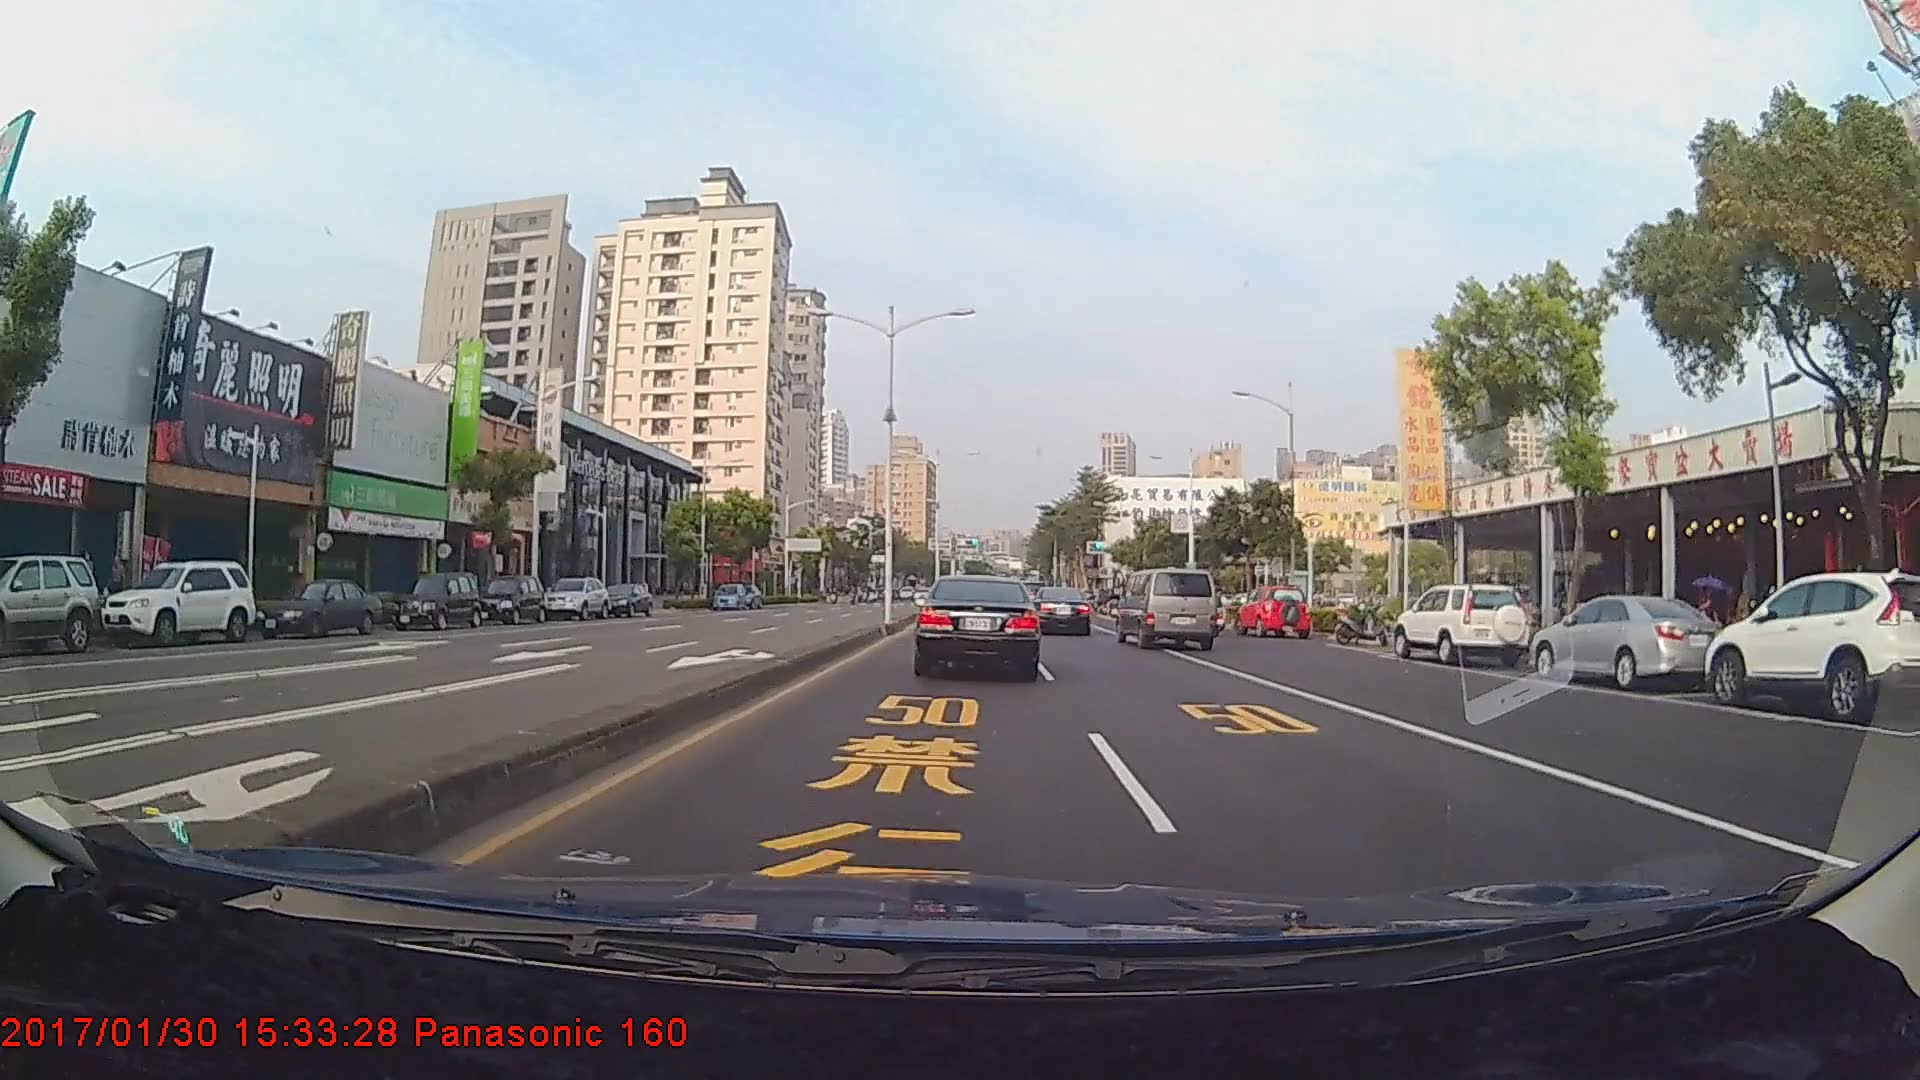vehicle: (1705, 570, 1917, 721), (1544, 589, 1724, 688), (100, 560, 255, 647), (915, 572, 1040, 678), (1389, 582, 1528, 665), (0, 553, 99, 655), (1113, 567, 1217, 650), (252, 578, 382, 640), (388, 570, 483, 629), (469, 575, 549, 626), (1232, 584, 1308, 637), (541, 575, 615, 622), (1027, 585, 1093, 636), (593, 582, 653, 617), (709, 583, 744, 612)
